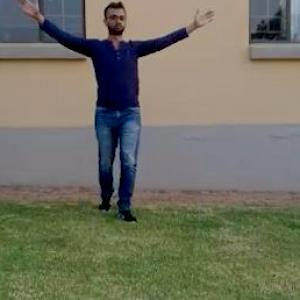takeoff: (22, 0, 213, 214)
